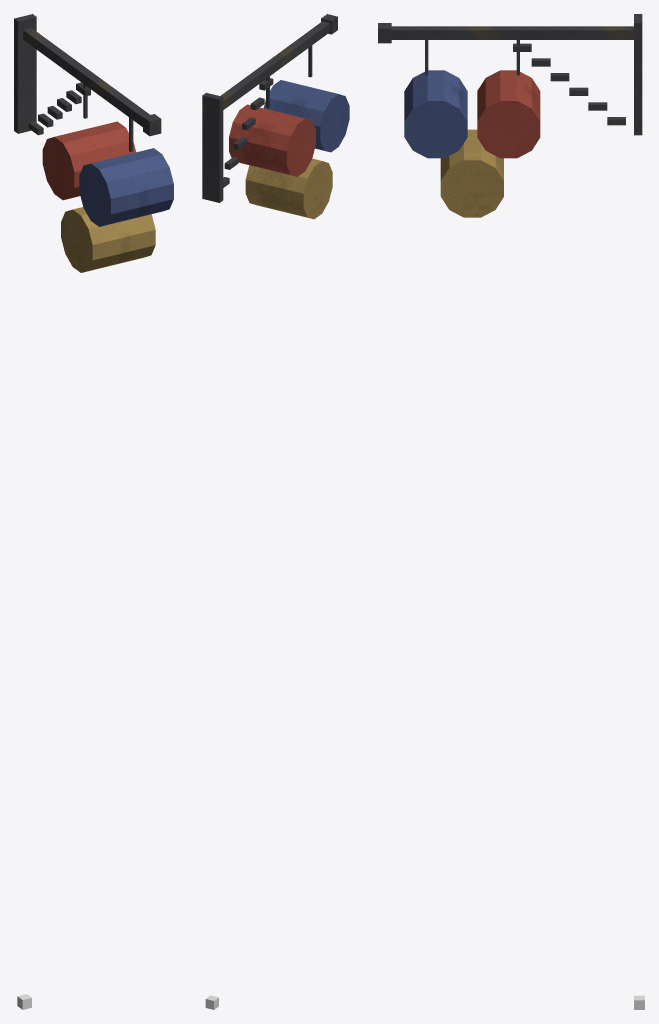
File: sign_cloth.glb
3 views of the same model, side by side, from view 1: azimuth 30°, elevation 25°; view 2: azimuth 150°, elevation 25°; view 3: azimuth 270°, elevation 25° (orthographic). The views are drawn at different scales.
Visible parts, largest first — view 1: sign_cloth; view 2: sign_cloth; view 3: sign_cloth.
Part boxes in pixels (bbox=[...]): sign_cloth: bbox=[14, 14, 173, 272]; sign_cloth: bbox=[202, 14, 349, 219]; sign_cloth: bbox=[378, 14, 642, 217].
Bounding box in the file's own units: 0.27 × 4.05 × 0.99.
4 materials, 4 textured.
